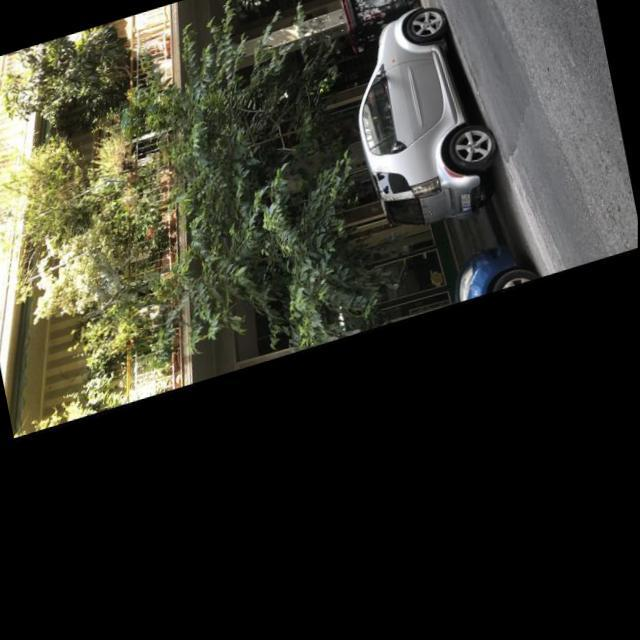-: (302, 33, 346, 55), (362, 0, 402, 19), (297, 22, 330, 42)
